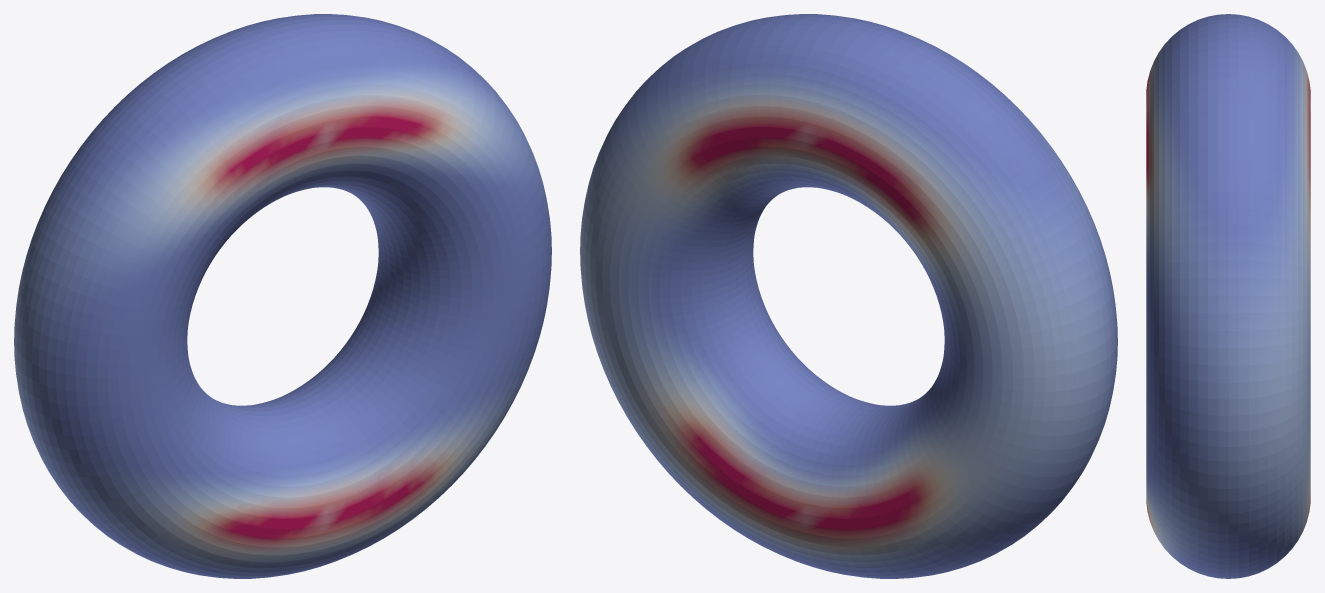
3 renders of one model, left to right at view 1: azimuth 30°, elevation 25°; view 2: azimuth 150°, elevation 25°; view 3: azimuth 270°, elevation 25°, orthographic. The views are drawn at different scales.
Parts seen in each view (by area): view 1: world; view 2: world; view 3: world.
Boxes of the visible parts, x1,y1,x2,y2 form: world: [14, 14, 551, 578]; world: [580, 14, 1117, 578]; world: [1146, 14, 1310, 578].
Size of the model in its own units: 16 by 16 by 4.66.
